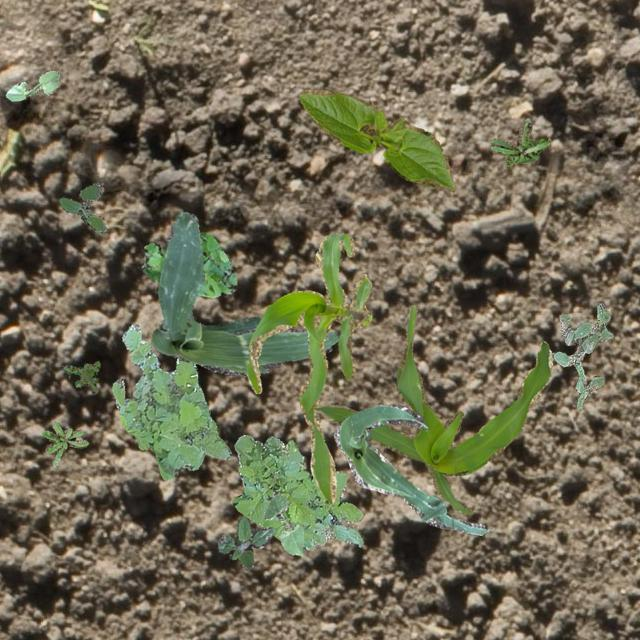crop: (312, 304, 552, 514), (246, 232, 372, 502), (150, 210, 338, 376), (332, 404, 492, 534), (300, 88, 454, 192), (262, 492, 302, 556), (5, 70, 58, 100)
weed: (110, 322, 230, 478), (232, 434, 362, 550), (550, 302, 612, 411), (138, 232, 235, 296), (216, 516, 274, 568), (490, 118, 550, 166), (58, 182, 106, 232), (41, 421, 88, 466), (62, 360, 98, 392)
